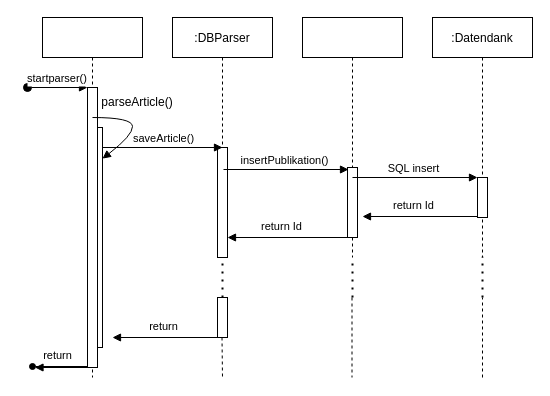
This 550x396 diagram has some shape labels left out. The box of each missing label's shape, as (x1, y1, x2, y2) in pixels:
:insert: (302, 16, 402, 258)
:Parser: (42, 16, 142, 378)
